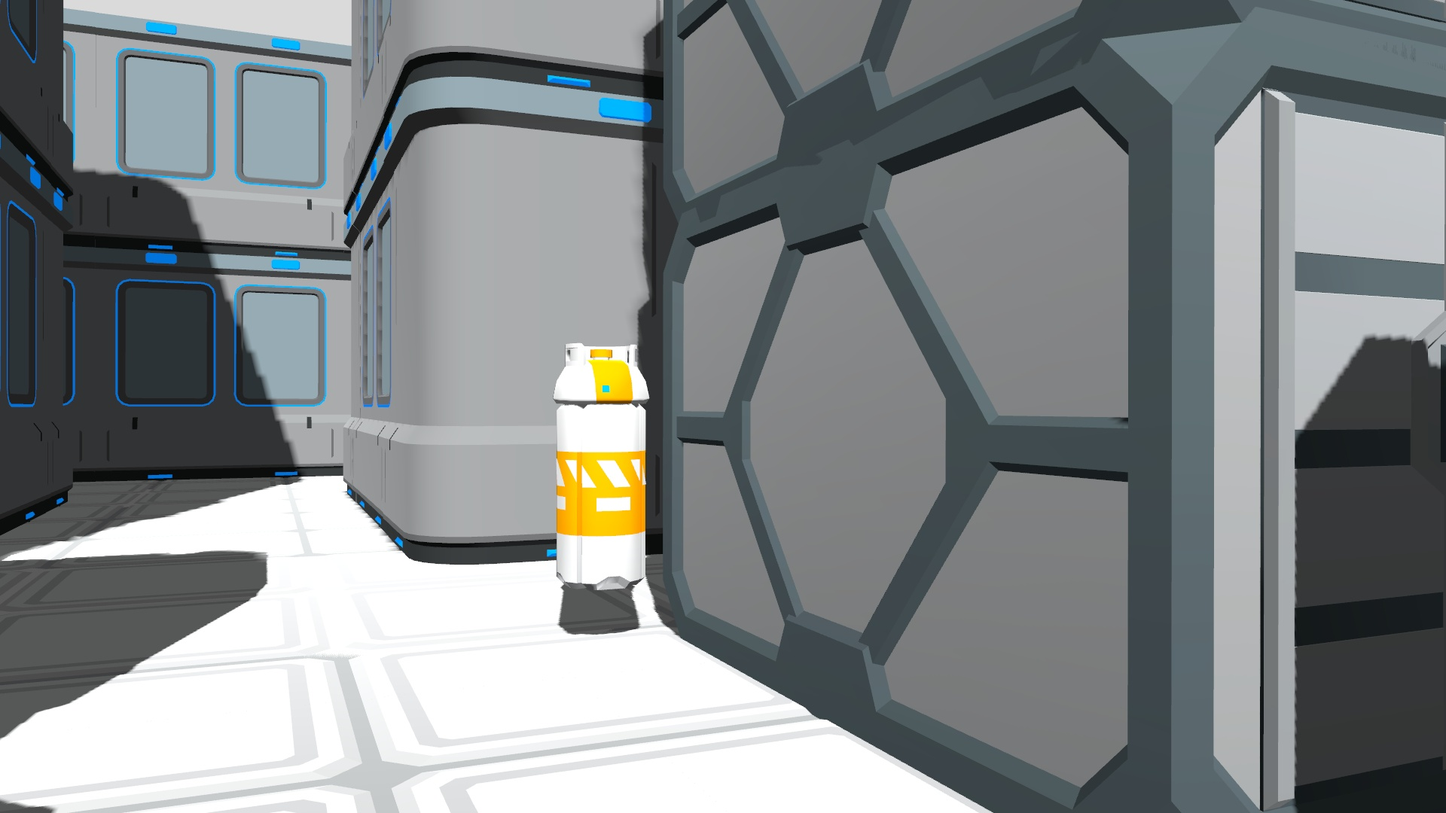yellow_barrel: (550, 336, 650, 596)
